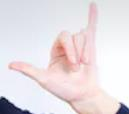clockwise: (6, 3, 103, 99)
